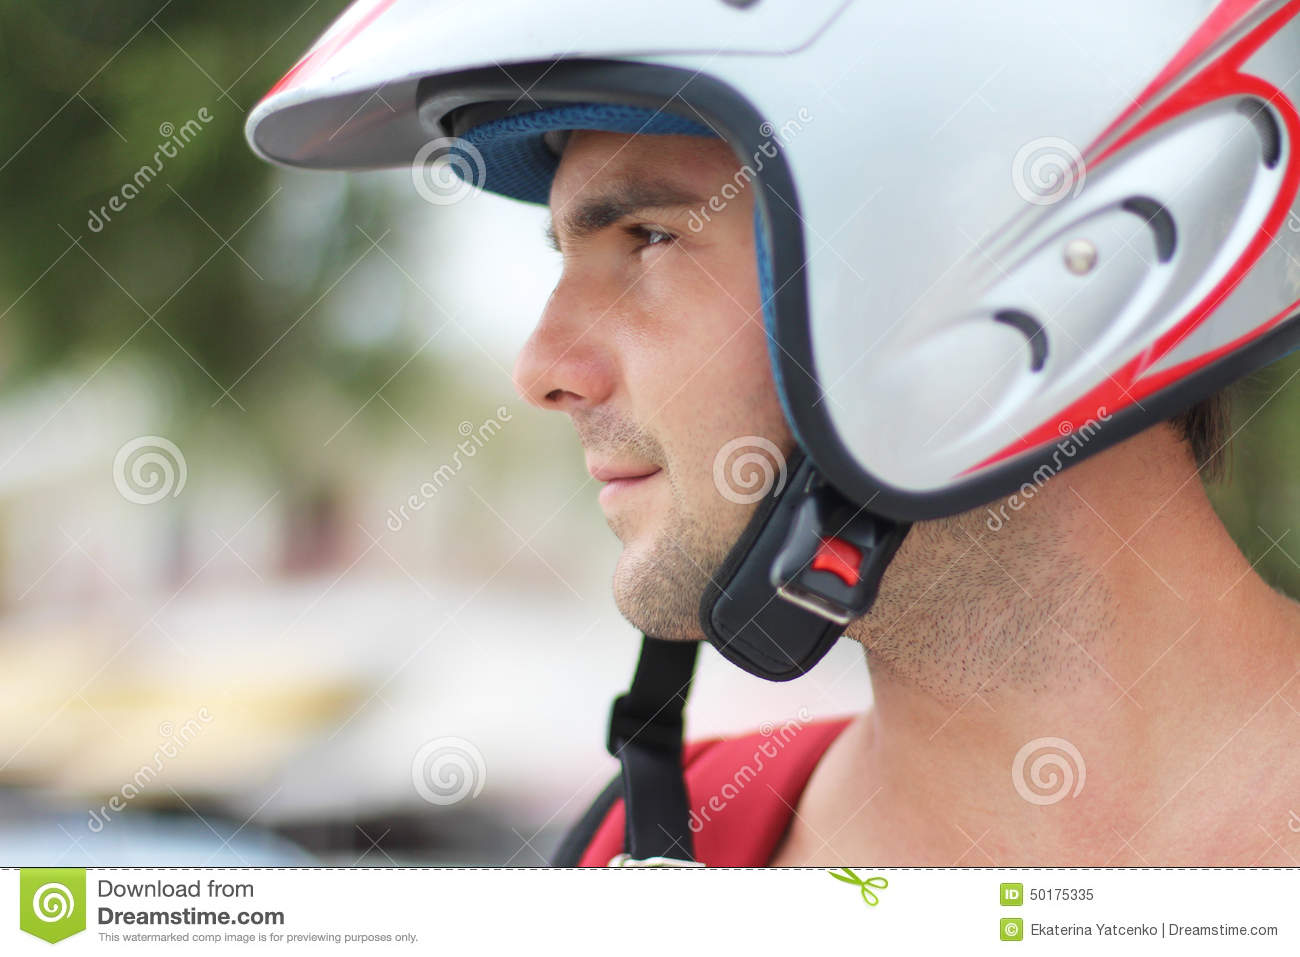helmet: (307, 10, 1292, 410)
